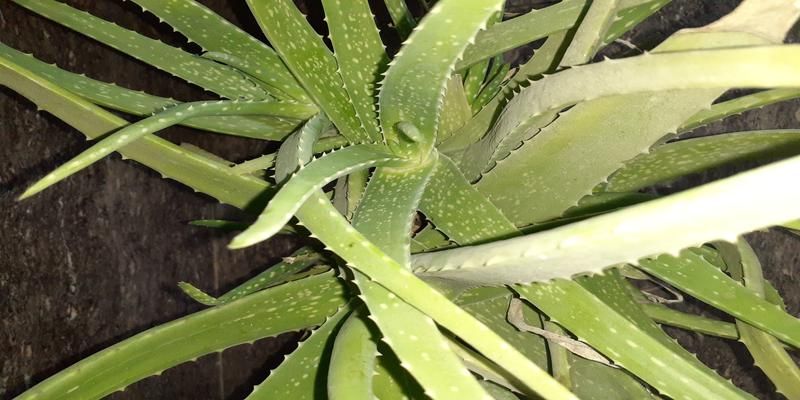Aloevera: (118, 63, 720, 374)
